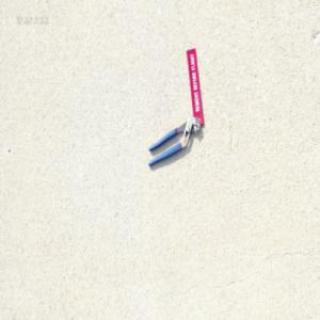LuggageTagtrack_idkeyframe: (186, 46, 204, 124)
Pliertrack_idkeyframe: (146, 115, 200, 166)
